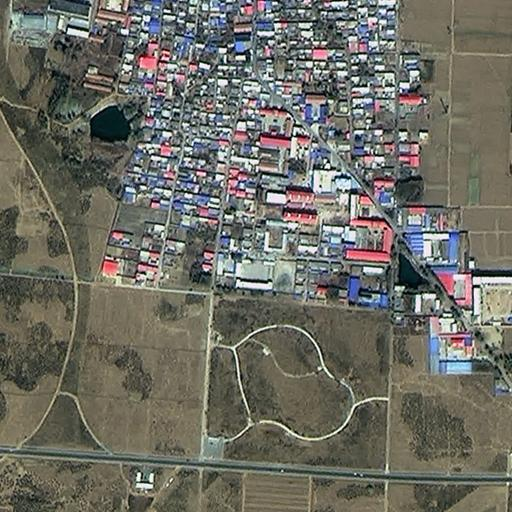school: (231, 256, 296, 293)
